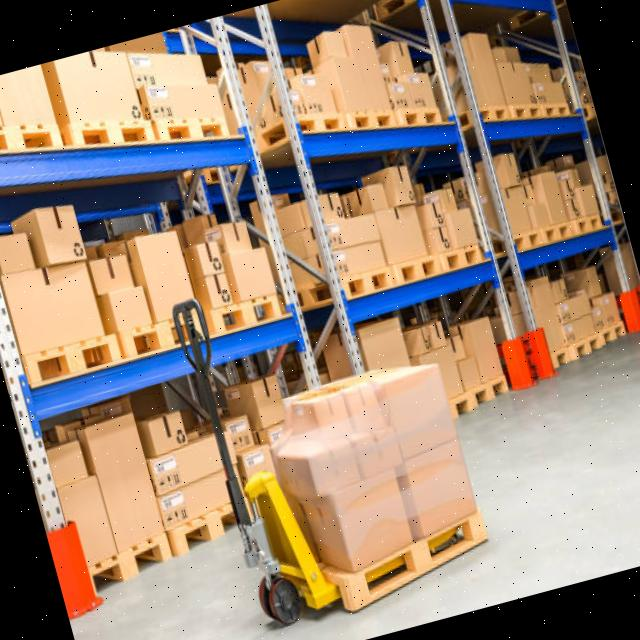Wooden-Pallets: (336, 497, 494, 626), (18, 327, 123, 395), (63, 105, 163, 162), (207, 285, 291, 341), (155, 111, 237, 159), (0, 116, 69, 163)
